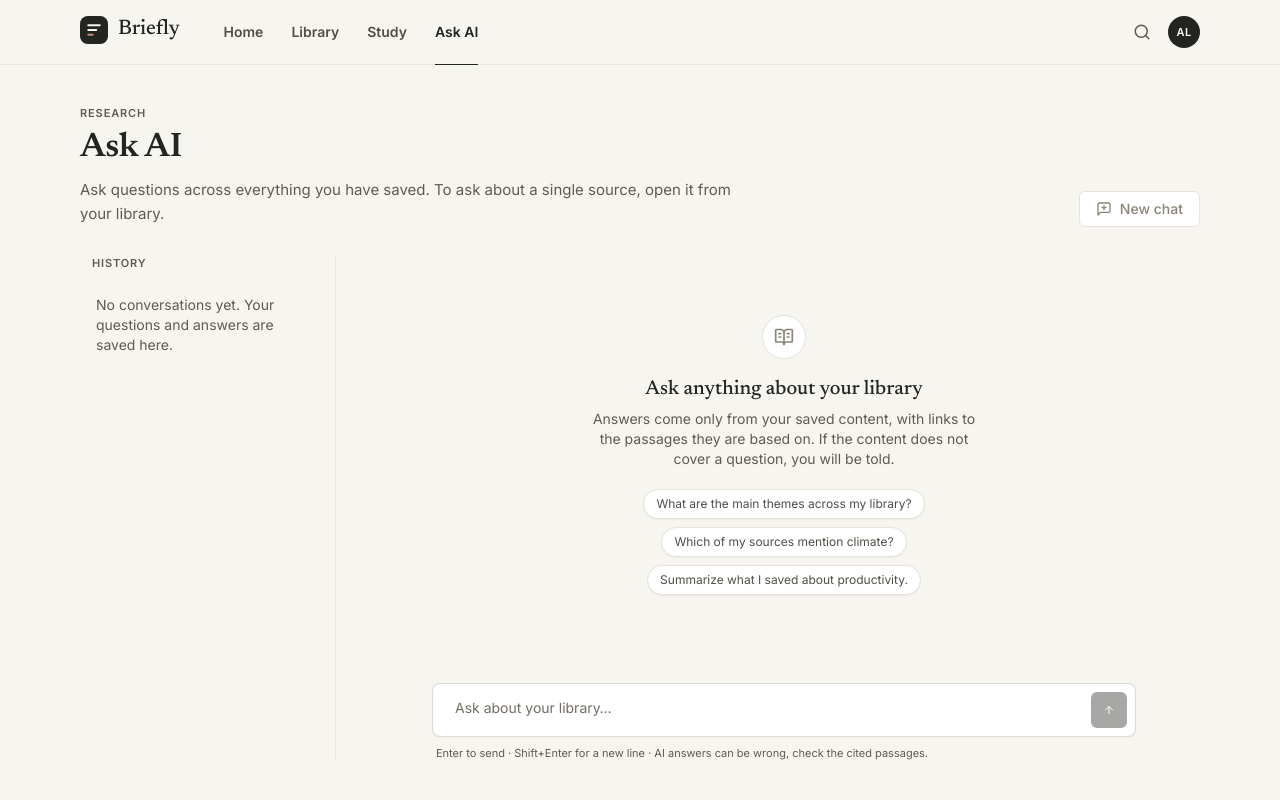
Test: Ask AI when Gemini is unavailable › quota exhaustion is shown as a pause, not an error, and the question is kept
This screenshot has width=1280, height=800.
Type "Why?" into the text box named "Your question" at (765, 710), box [447,692,1083,728]
Then press Enter
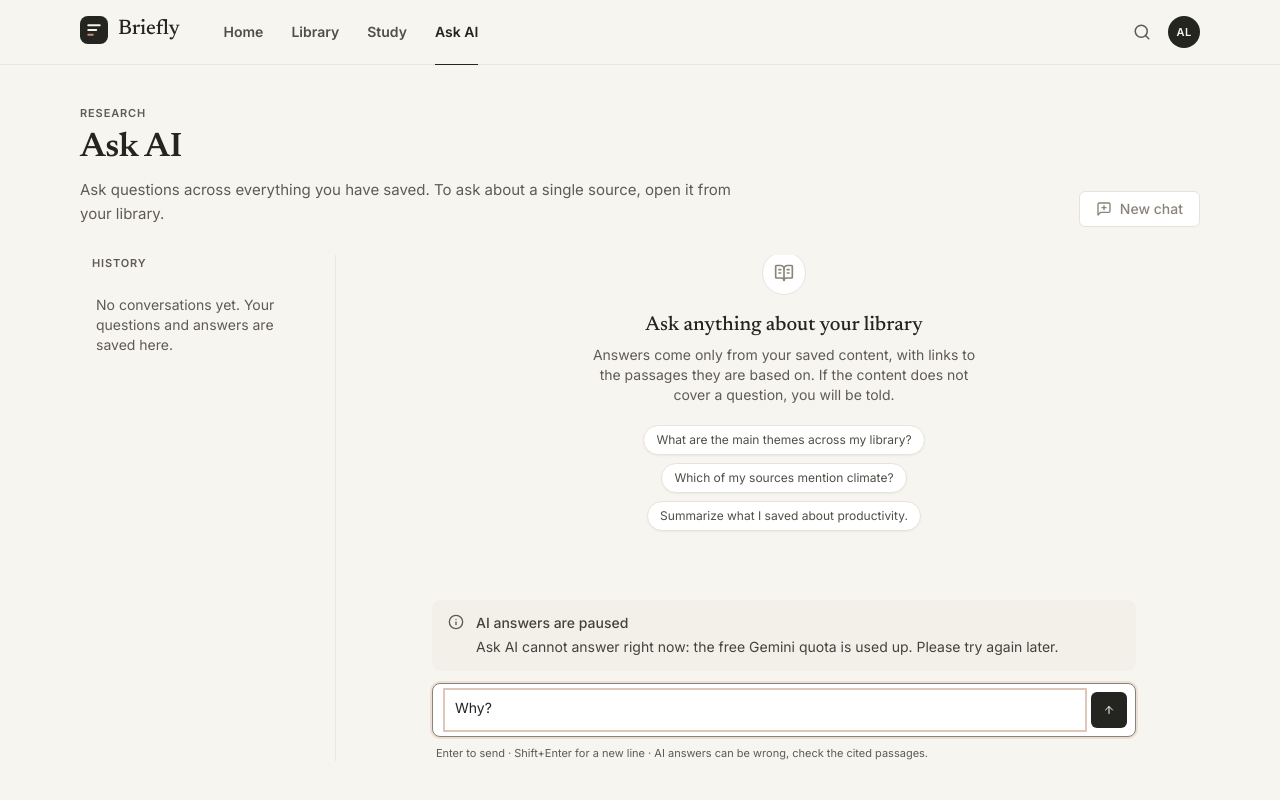
Result: the text "AI answers are paused" is shown at [476,614,628,630]
Result: the text "free Gemini quota is used up" is shown at [476,638,1058,655]
